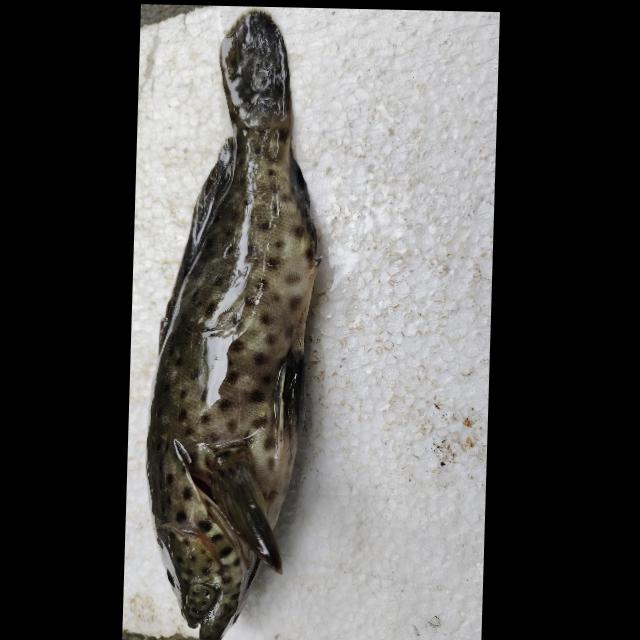Groupers: (137, 4, 324, 640)
